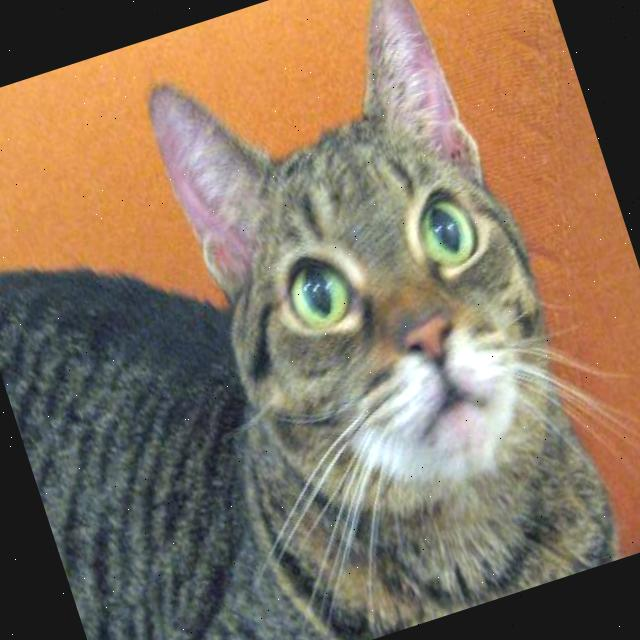cat-eye-normal: (394, 168, 504, 289), (262, 236, 370, 352)
